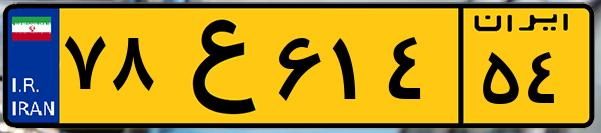1: (330, 28, 385, 110)
4: (385, 28, 445, 110), (525, 38, 570, 115)
5: (475, 38, 525, 113)
6: (270, 28, 330, 110)
7: (57, 26, 110, 100)
8: (110, 28, 158, 98)
ع: (158, 12, 270, 120)
